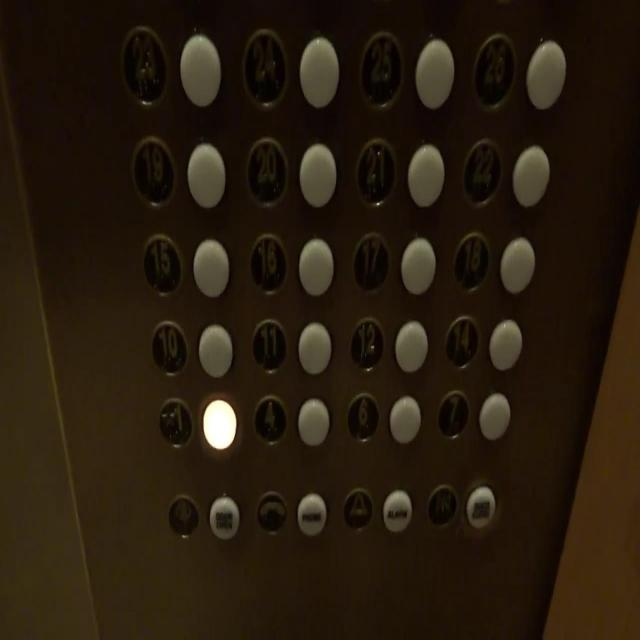10: (150, 318, 190, 379)
11: (252, 318, 290, 376)
12: (350, 313, 384, 371)
14: (444, 314, 479, 372)
15: (140, 232, 184, 297)
16: (249, 234, 289, 296)
17: (349, 228, 392, 296)
18: (452, 230, 492, 296)
19: (131, 137, 177, 214)
20: (244, 138, 288, 206)
21: (354, 137, 398, 210)
22: (460, 137, 502, 212)
23: (119, 25, 169, 110)
24: (241, 30, 287, 110)
25: (359, 28, 403, 113)
26: (470, 33, 515, 108)
4: (253, 393, 289, 449)
6: (346, 390, 380, 444)
7: (435, 388, 471, 439)
alarm: (341, 487, 373, 532)
call: (255, 490, 289, 538)
close: (426, 482, 460, 532)
empty: (178, 30, 220, 110), (524, 37, 566, 112), (186, 135, 226, 211), (298, 35, 338, 109), (415, 38, 455, 111), (298, 142, 336, 210), (512, 144, 551, 208), (407, 142, 445, 207), (191, 237, 229, 298), (497, 235, 536, 294), (298, 236, 334, 296), (400, 235, 436, 295), (198, 322, 234, 378), (296, 320, 332, 375), (489, 318, 523, 374), (201, 398, 236, 450), (394, 320, 428, 372), (477, 392, 512, 441), (296, 397, 329, 447), (389, 393, 421, 444)
open: (168, 494, 200, 540)
s1: (157, 396, 193, 450)
text: (209, 494, 239, 542), (295, 492, 326, 537), (382, 486, 412, 532), (466, 484, 496, 530)
